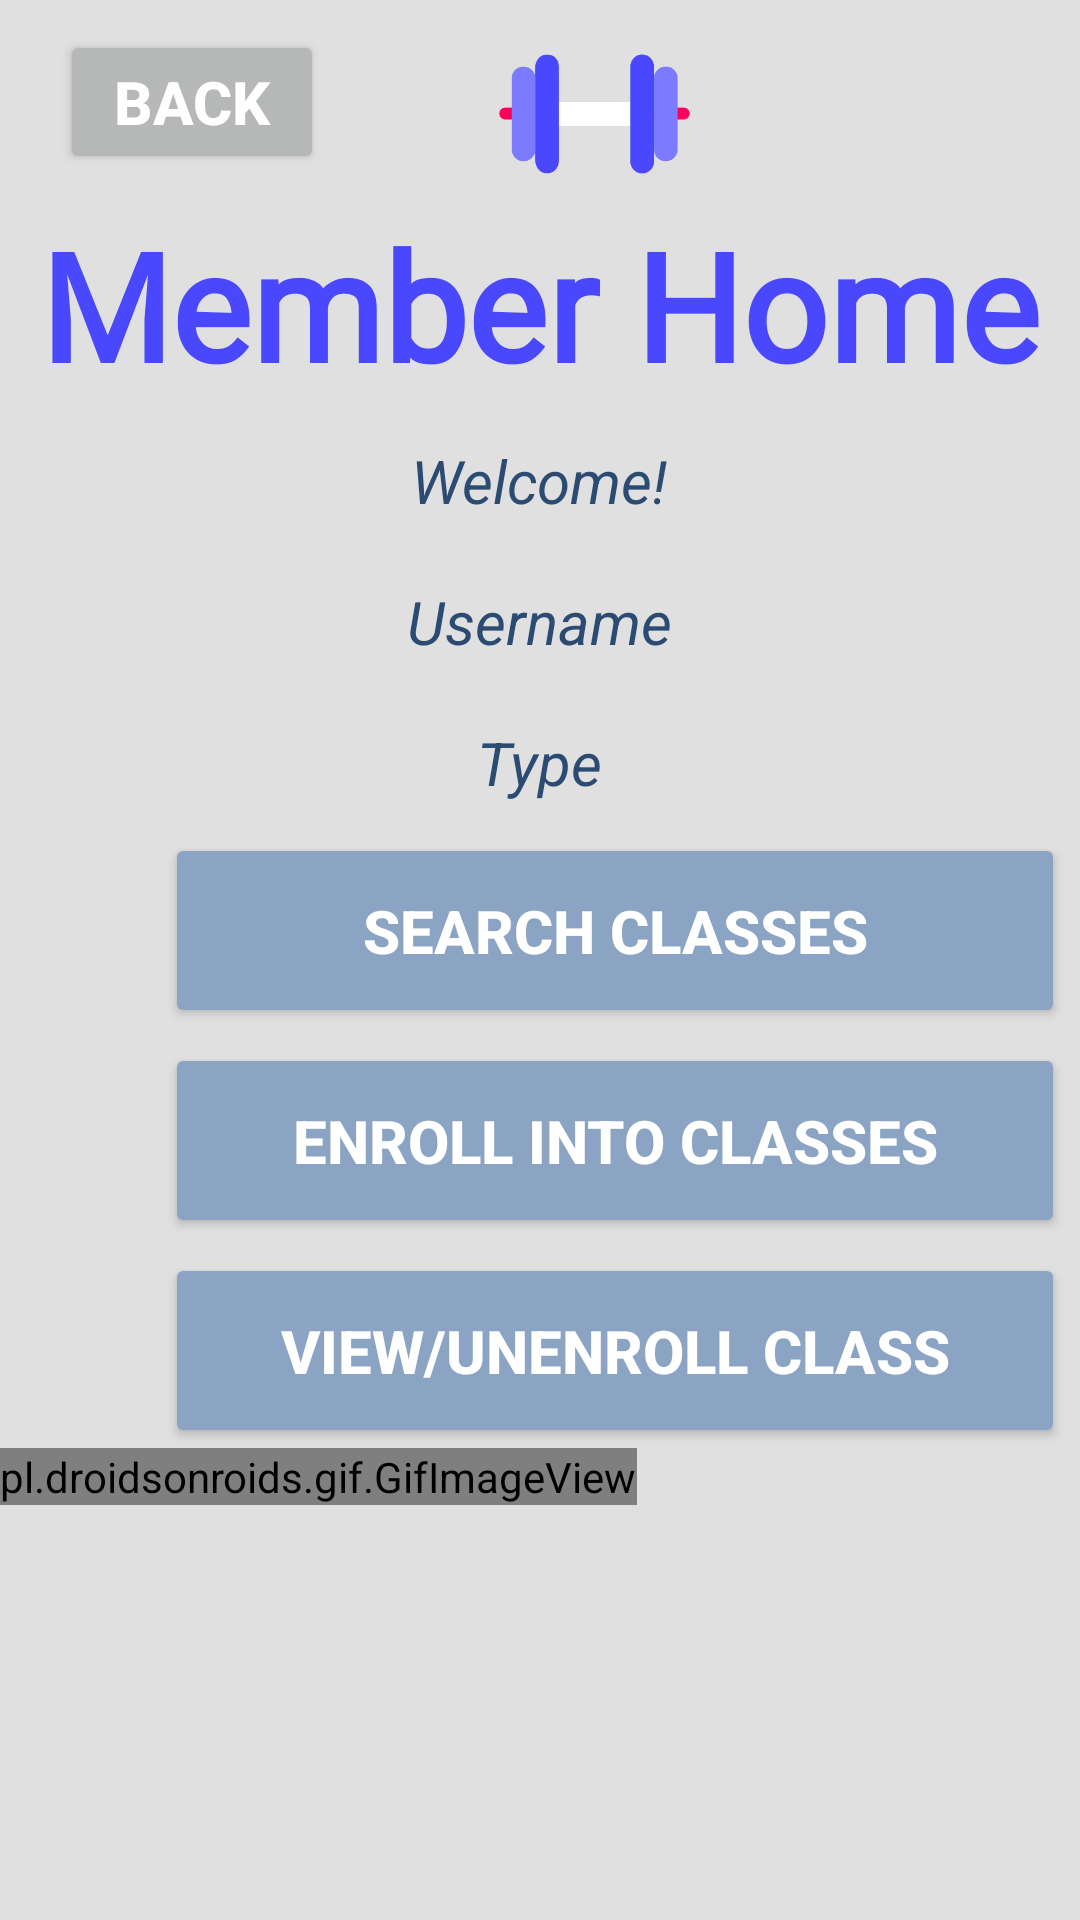

Screen size 1080×1920. Icon name, then its box in pixels as (x1, y1, x2, y2):
dumbell purp: (499, 54, 690, 174)
